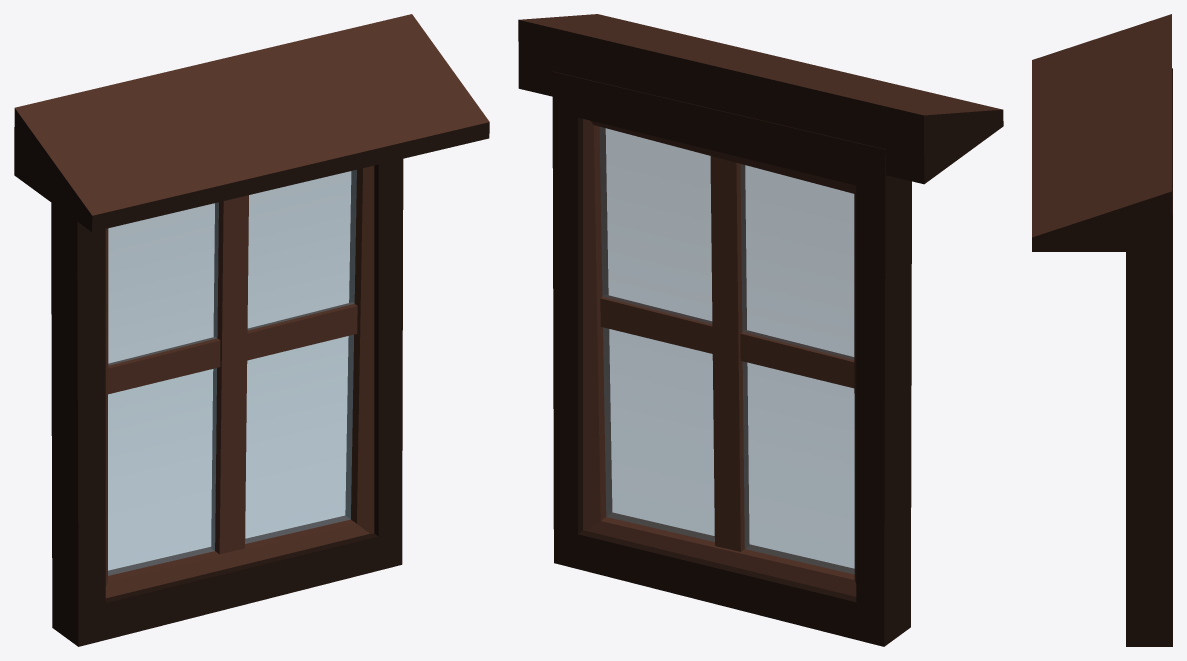
Rendered from Window 2x2 V3 Closed.glb.
3 renders of one model, left to right at view 1: azimuth 30°, elevation 25°; view 2: azimuth 150°, elevation 25°; view 3: azimuth 270°, elevation 25°, orthographic. The views are drawn at different scales.
Parts seen in each view (by area): view 1: Window 2x2 V3 Closed; view 2: Window 2x2 V3 Closed; view 3: Window 2x2 V3 Closed.
Boxes of the visible parts, <box> form: Window 2x2 V3 Closed: <box>14,14,489,646</box>; Window 2x2 V3 Closed: <box>518,14,1003,646</box>; Window 2x2 V3 Closed: <box>1032,14,1172,646</box>.
Size of the model in its own units: 1.41 by 1.79 by 0.4792.
Materials: 2 (2 with a texture image).
